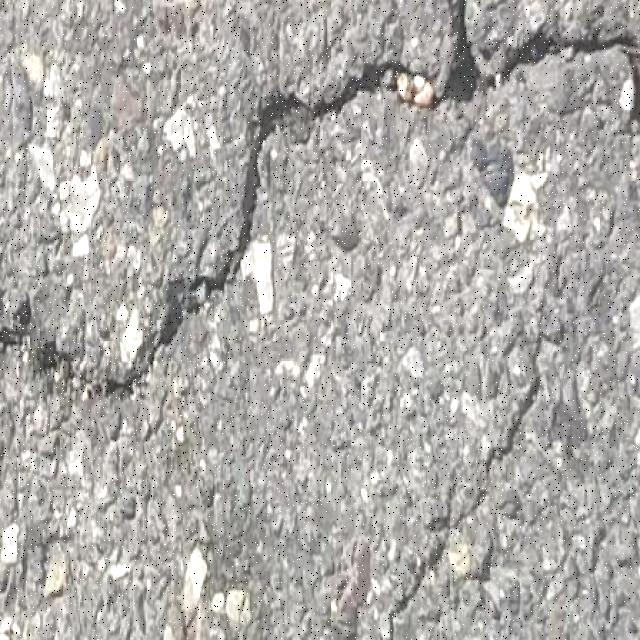Crack: (0, 6, 639, 407), (382, 330, 544, 639)
